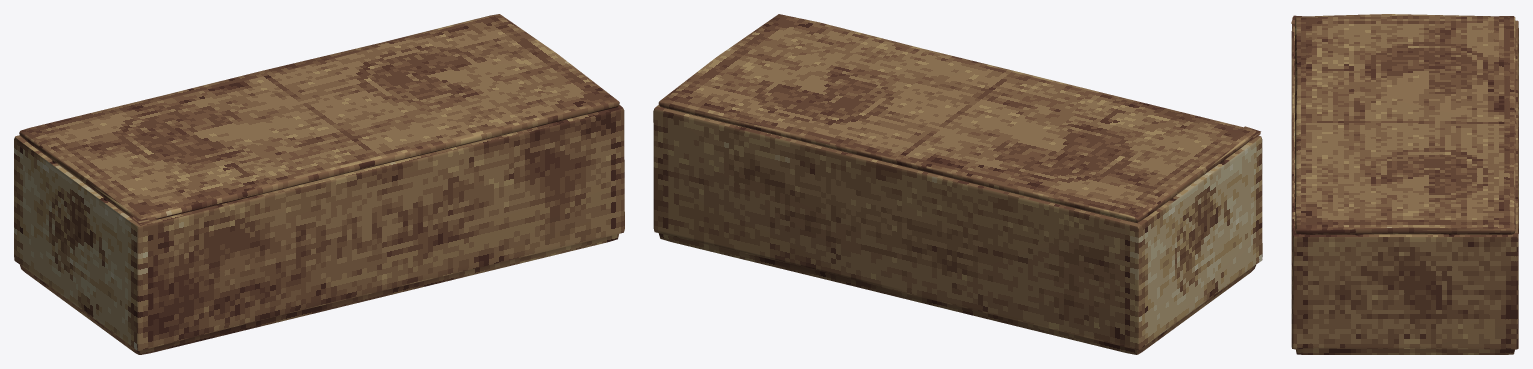
The model's file is CheeseBox_01.glb.
3 renders of one model, left to right at view 1: azimuth 30°, elevation 25°; view 2: azimuth 150°, elevation 25°; view 3: azimuth 270°, elevation 25°, orthographic. The views are drawn at different scales.
Parts seen in each view (by area): view 1: body; view 2: body; view 3: body.
Part boxes in pixels (left/top/right/bottom): body: left=14, top=14, right=624, bottom=354; body: left=653, top=14, right=1262, bottom=354; body: left=1291, top=14, right=1518, bottom=354.
Size of the model in its own units: 0.2404 by 0.066 by 0.1066.
1 material, 1 textured.
